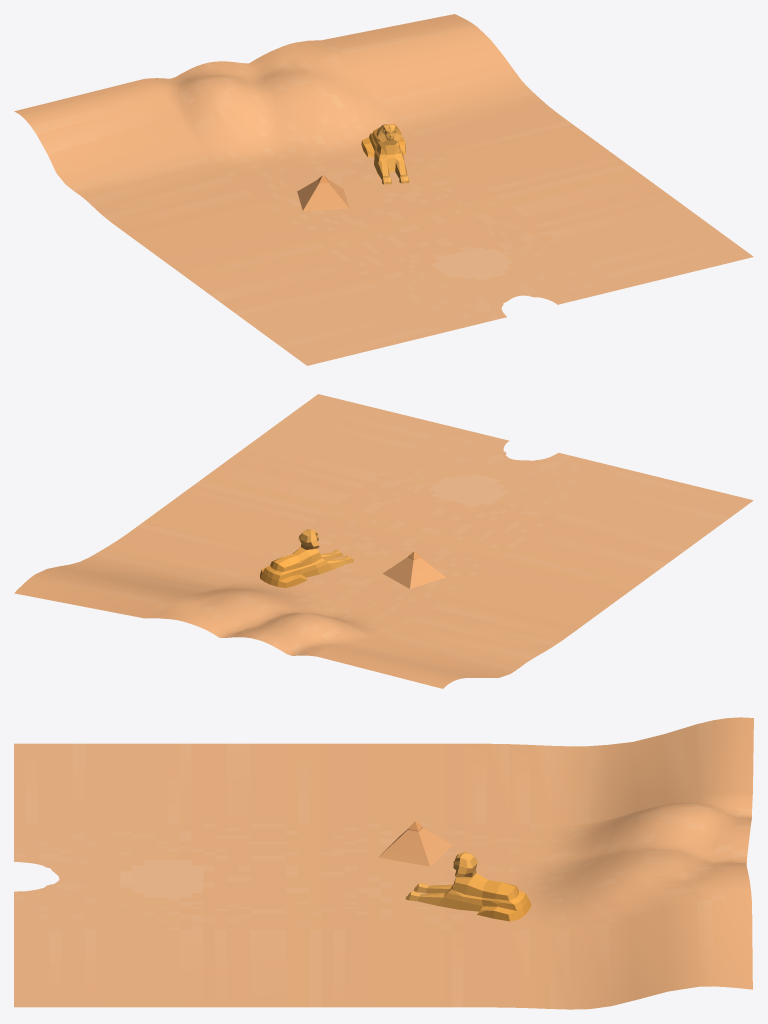
The model's file is SceneShoot_Egypt.fbx.
3 views of the same model, one above another, from view 1: azimuth 30°, elevation 25°; view 2: azimuth 150°, elevation 25°; view 3: azimuth 270°, elevation 25° (orthographic). The views are drawn at different scales.
Visible parts, largest first — view 1: Scene_Sand, sphinx, pyramid; view 2: Scene_Sand, sphinx, pyramid; view 3: Scene_Sand, sphinx, pyramid.
Boxes of the visible parts, bbox=[...] form: Scene_Sand: bbox=[14, 14, 753, 365]; sphinx: bbox=[361, 124, 409, 184]; pyramid: bbox=[297, 175, 349, 210]; Scene_Sand: bbox=[14, 394, 753, 688]; sphinx: bbox=[260, 529, 354, 587]; pyramid: bbox=[382, 551, 445, 588]; Scene_Sand: bbox=[14, 717, 753, 1009]; sphinx: bbox=[405, 852, 531, 921]; pyramid: bbox=[378, 821, 451, 866].
Bounding box in the file's own units: 18138 × 1538 × 21150.
